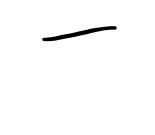minus: (43, 26, 117, 42)
